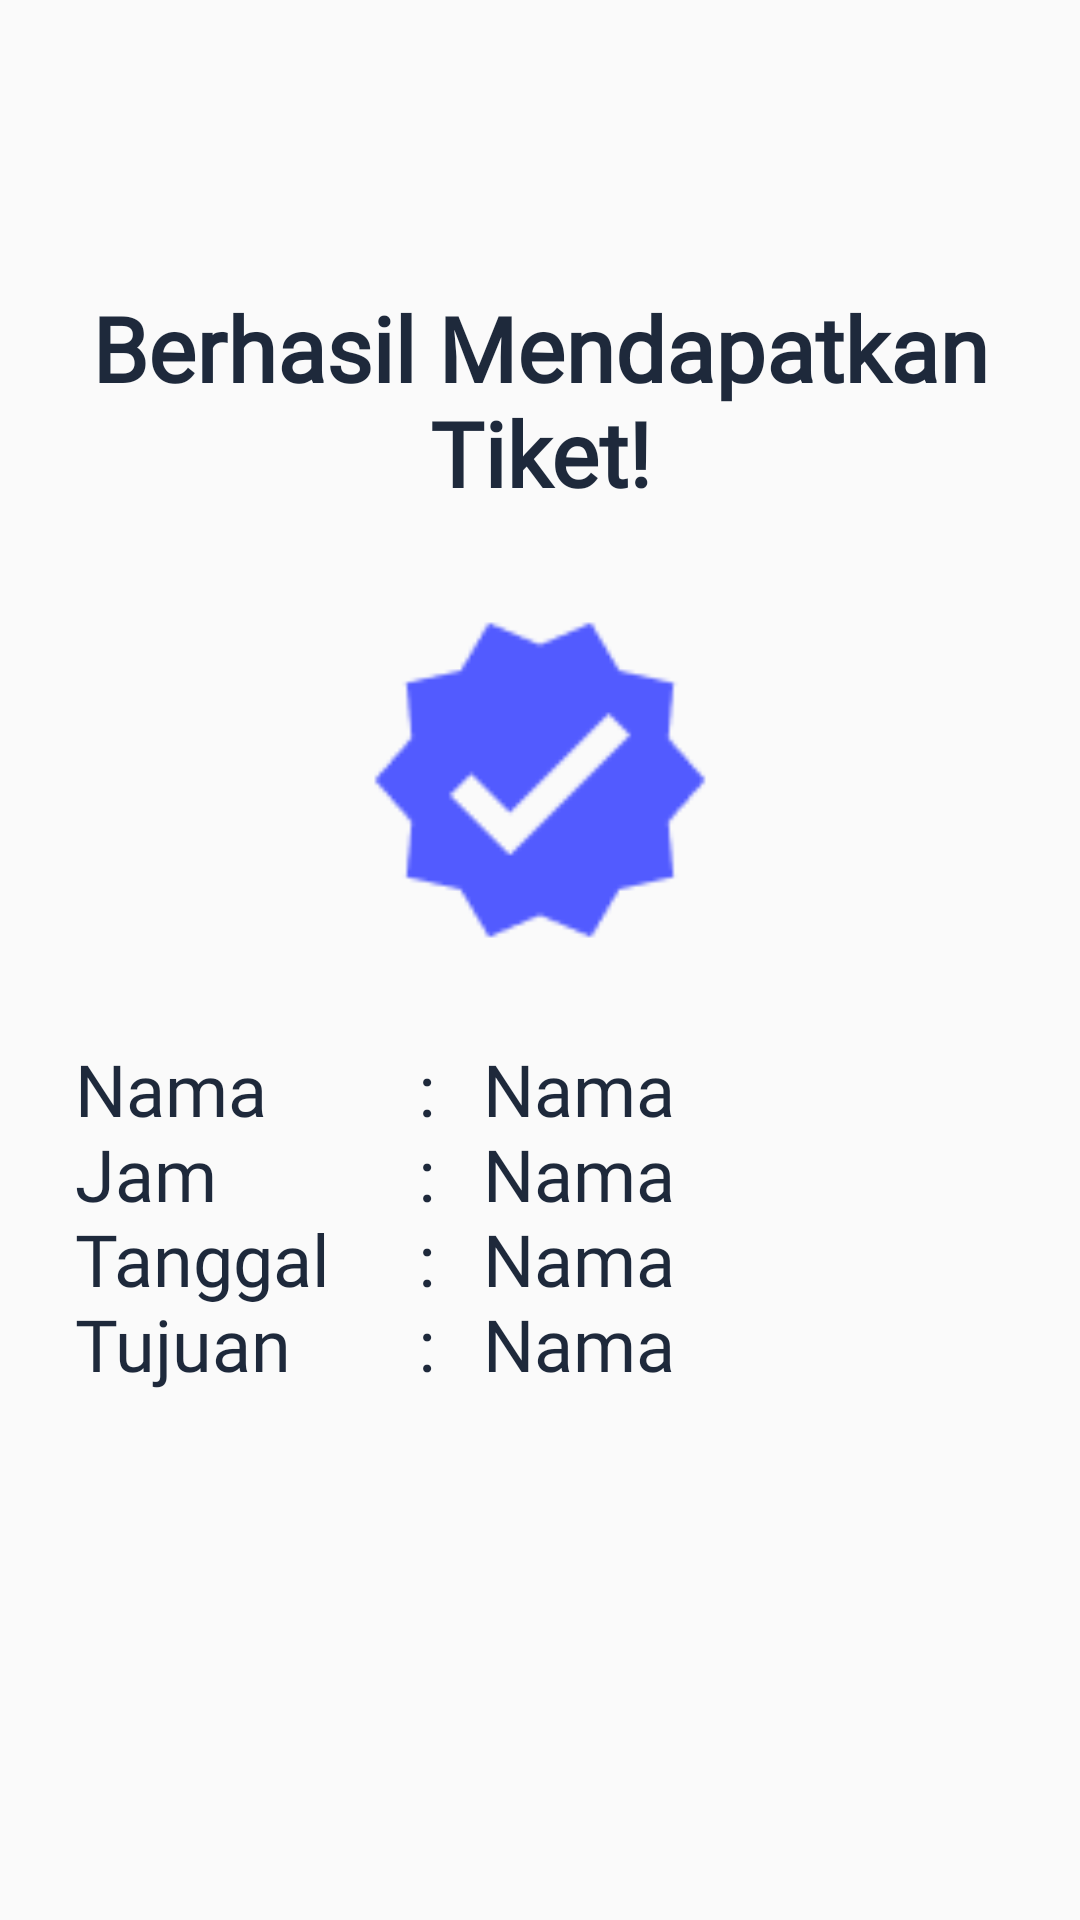

Named icons in this screenshot (1080 × 1920) and their centers, (x,y):
approve: (540,780)
